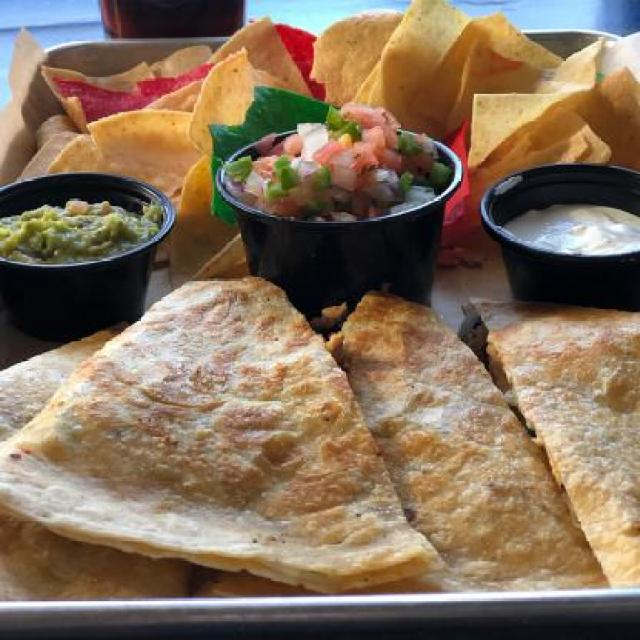chicken quesadilla: (1, 273, 639, 607)
guacamole: (1, 171, 174, 280)
nachos: (24, 1, 639, 179)
